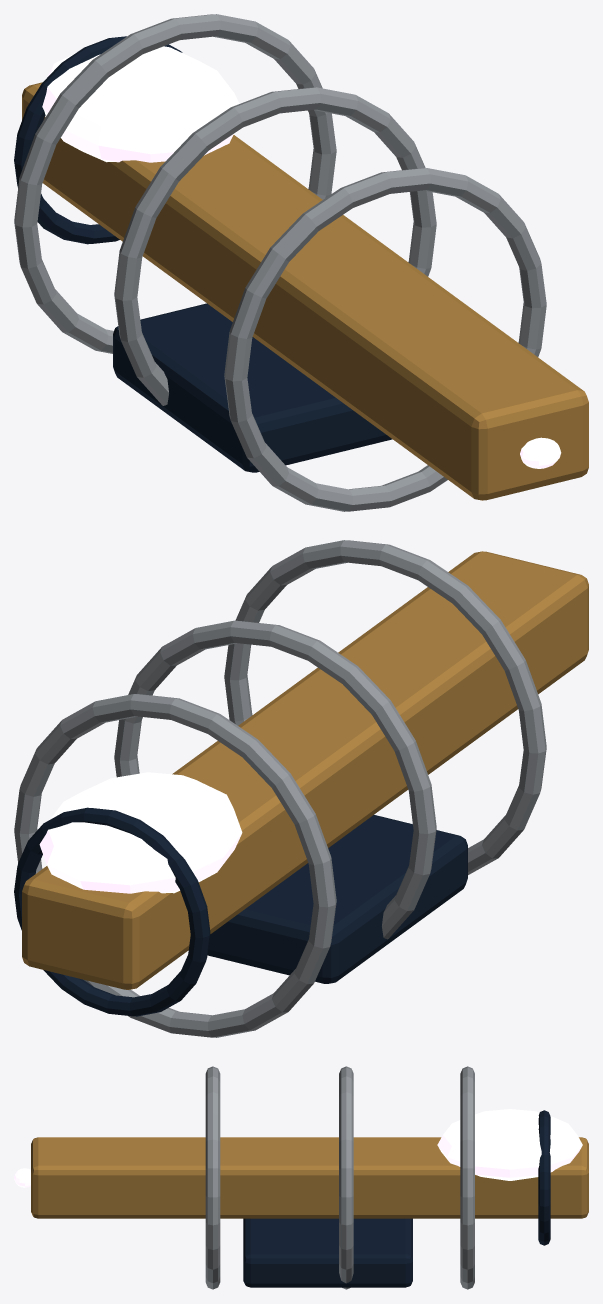
3 views of the same model, one above another, from view 1: azimuth 30°, elevation 25°; view 2: azimuth 150°, elevation 25°; view 3: azimuth 270°, elevation 25° (orthographic). The views are drawn at different scales.
Visible parts, largest first — view 1: RIMWARD_HULL, RIMWARD_EMISSIVE, RIMWARD_ENGINE_GLOW; view 2: RIMWARD_HULL, RIMWARD_EMISSIVE; view 3: RIMWARD_HULL, RIMWARD_EMISSIVE.
Part boxes in pixels (left/top/right/bottom): RIMWARD_HULL: left=14, top=14, right=588, bottom=511; RIMWARD_EMISSIVE: left=42, top=46, right=239, bottom=162; RIMWARD_ENGINE_GLOW: left=520, top=437, right=561, bottom=468; RIMWARD_HULL: left=14, top=540, right=588, bottom=1037; RIMWARD_EMISSIVE: left=39, top=772, right=242, bottom=893; RIMWARD_HULL: left=31, top=1066, right=588, bottom=1289; RIMWARD_EMISSIVE: left=437, top=1109, right=582, bottom=1180.
Bounding box in the file's own units: 4.07 × 4.07 × 10.43.
